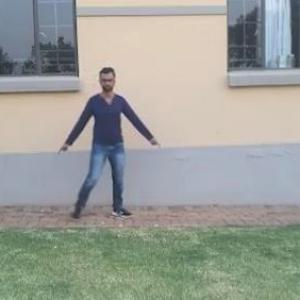land: (55, 62, 170, 235)
